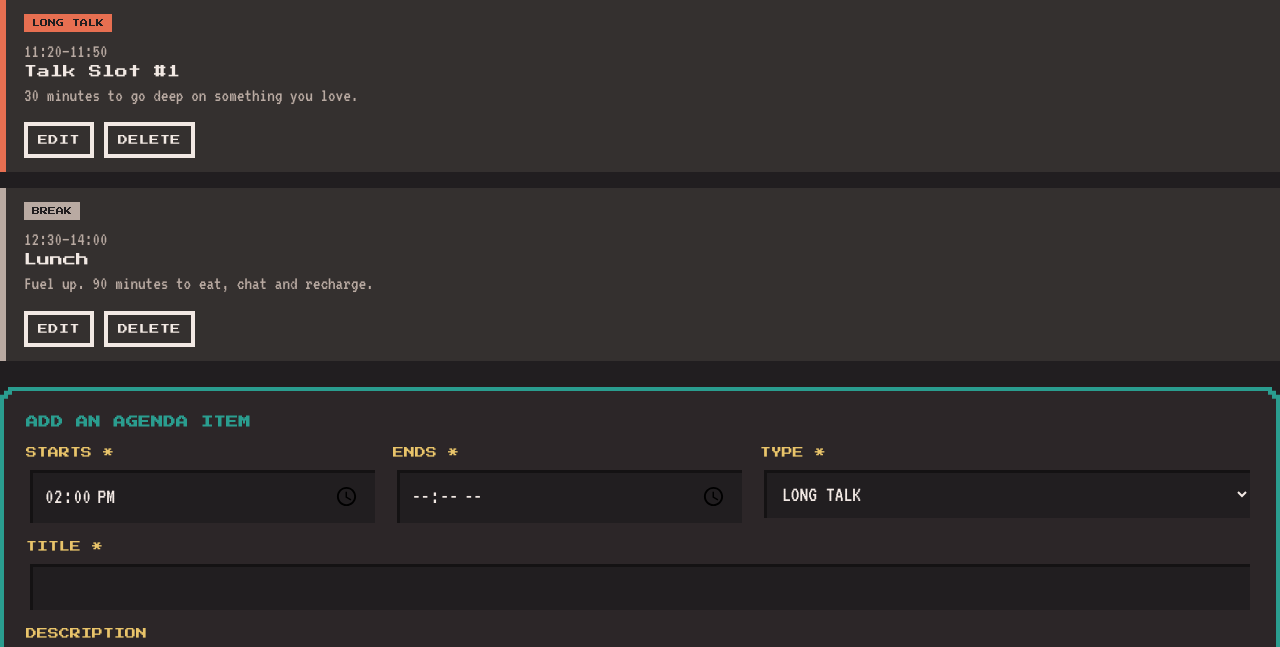
Test case: AgendaEditor › shows server errors from a failed save
Click the button "EDIT" below "Lunch".
click(59, 329)  # box [24,311,94,347]
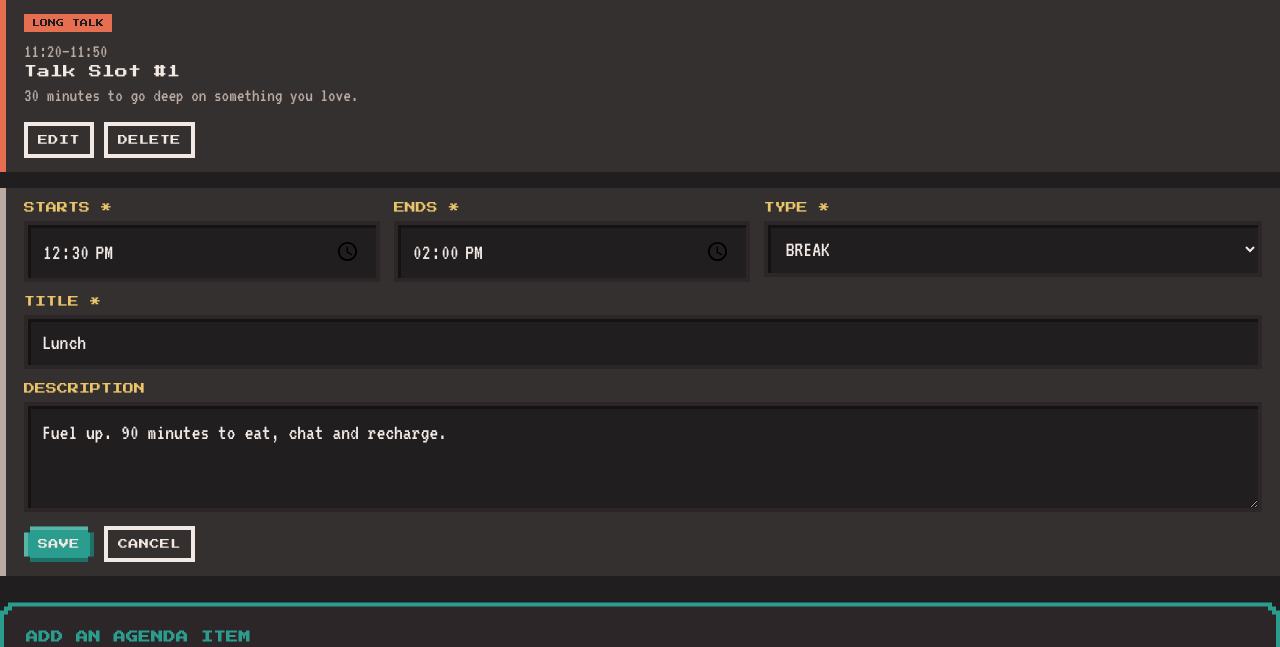
Click the button "SAVE".
click(59, 544)  # box [24,526,94,562]
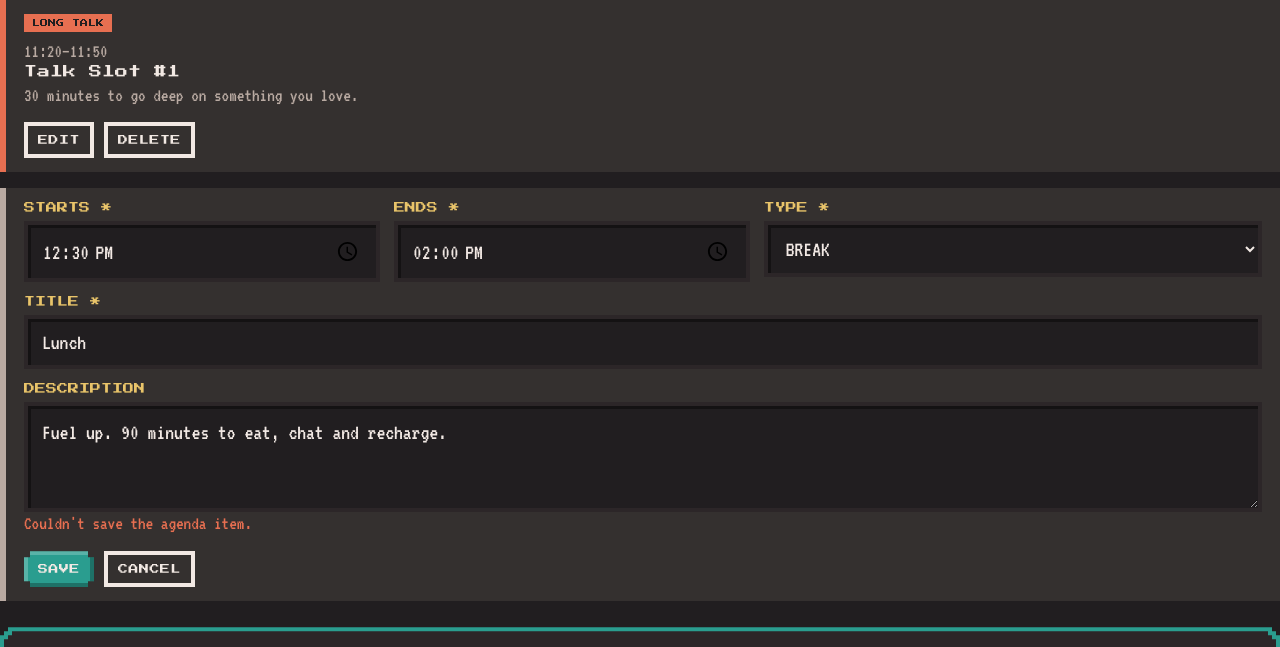
Result: the text "Couldn't save the agenda item." is shown at [24,514,252,534]
